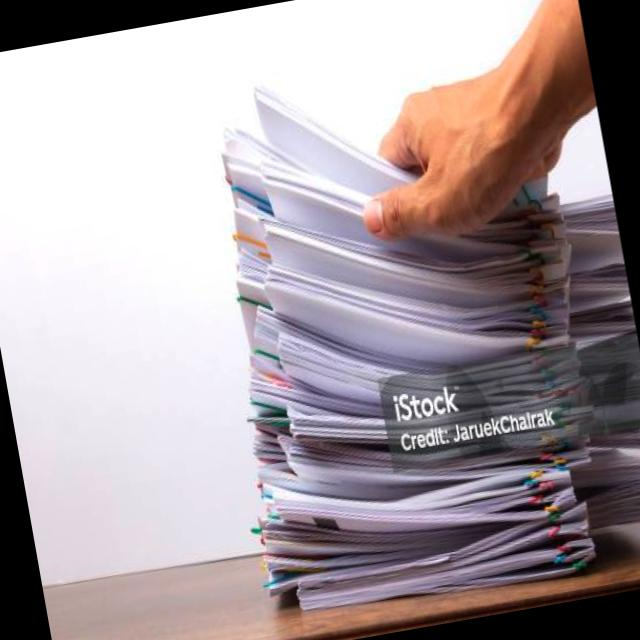KertasBekas: (174, 25, 640, 629)
